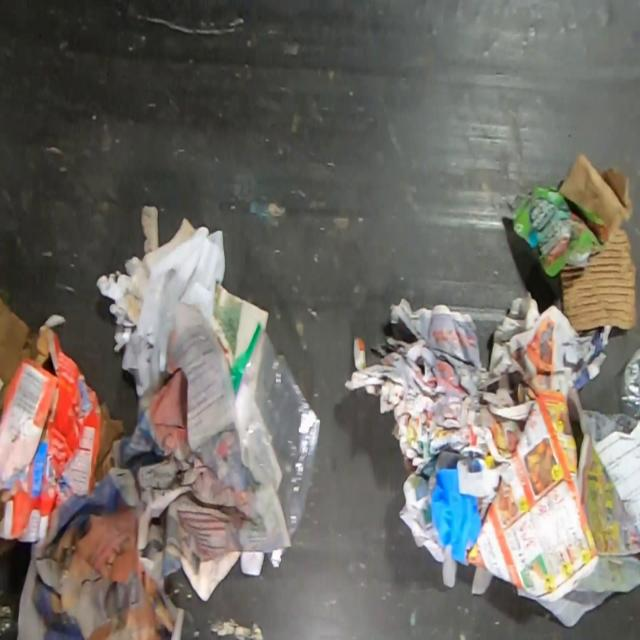cardboard: (0, 323, 102, 543), (511, 151, 633, 277), (559, 227, 638, 332), (0, 290, 37, 422), (94, 400, 126, 483)
soft_plastic: (229, 320, 321, 541), (619, 342, 640, 421), (264, 546, 289, 568)
